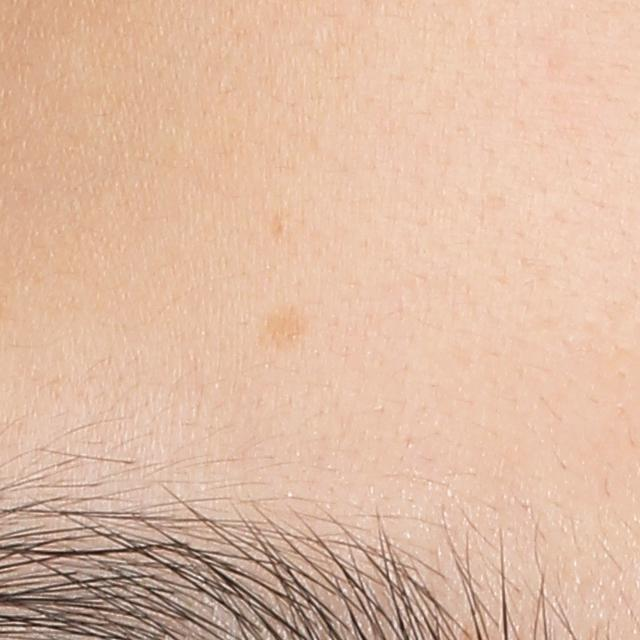melasma: (254, 303, 317, 351)
